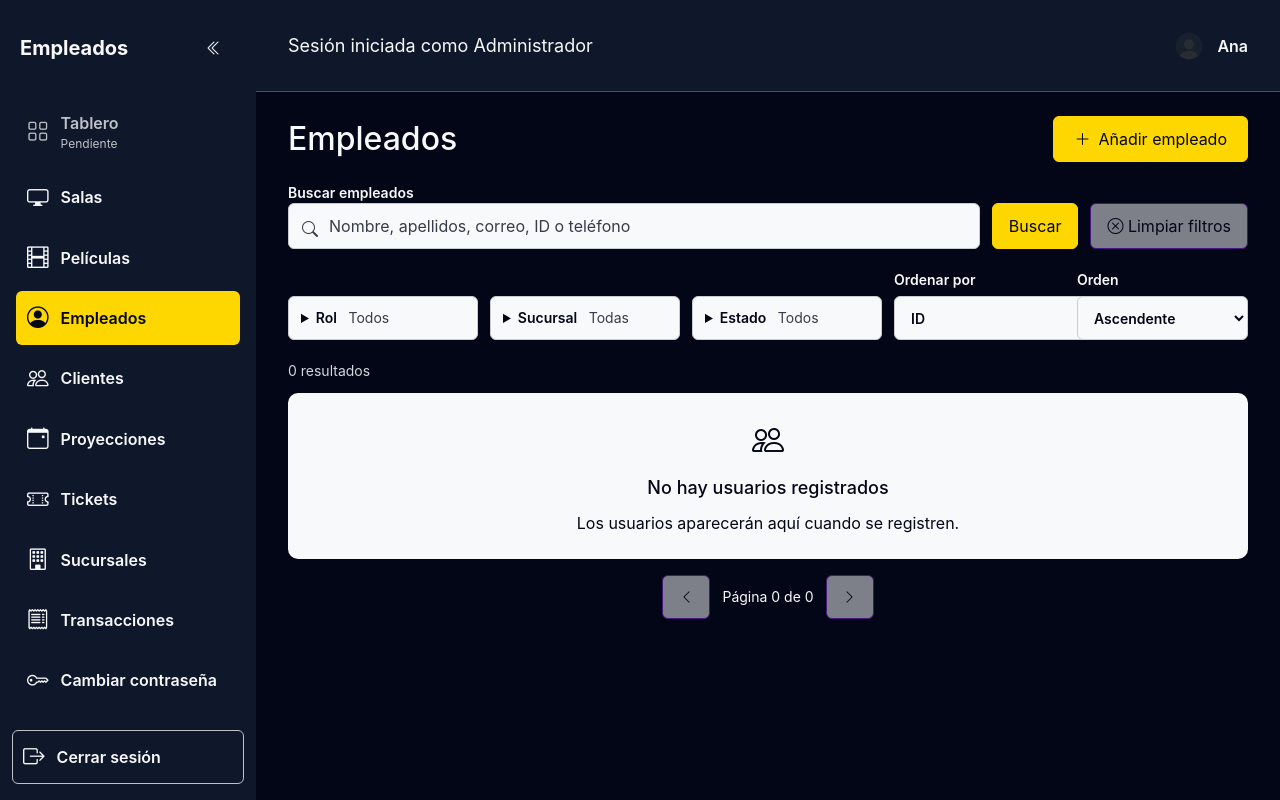
Test: DashboardView › creates a theater with the selected options
The width and height of the screenshot is (1280, 800).
Click the button with aria-label "Salas" at (128, 197), box [16,170,240,224]
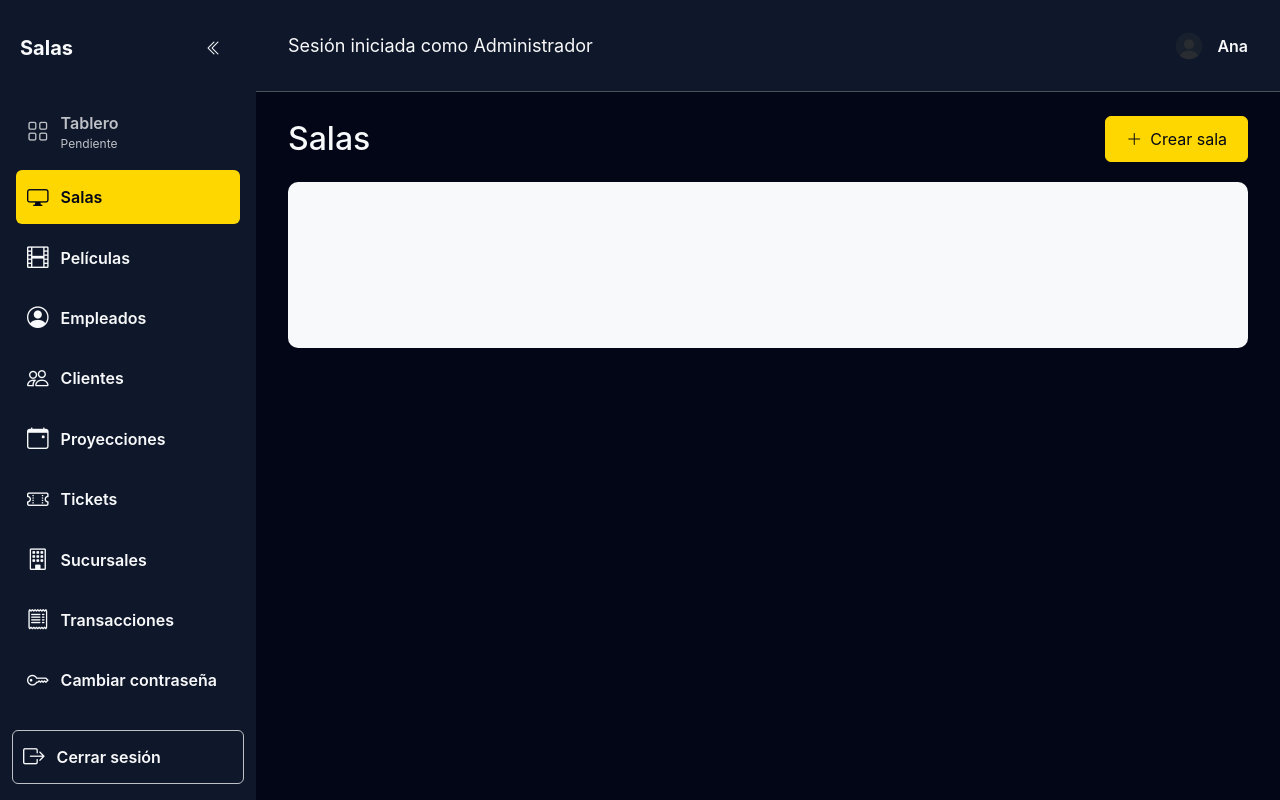
Click the button with class "add-user-button" at (1177, 139), box [1105,116,1248,162]
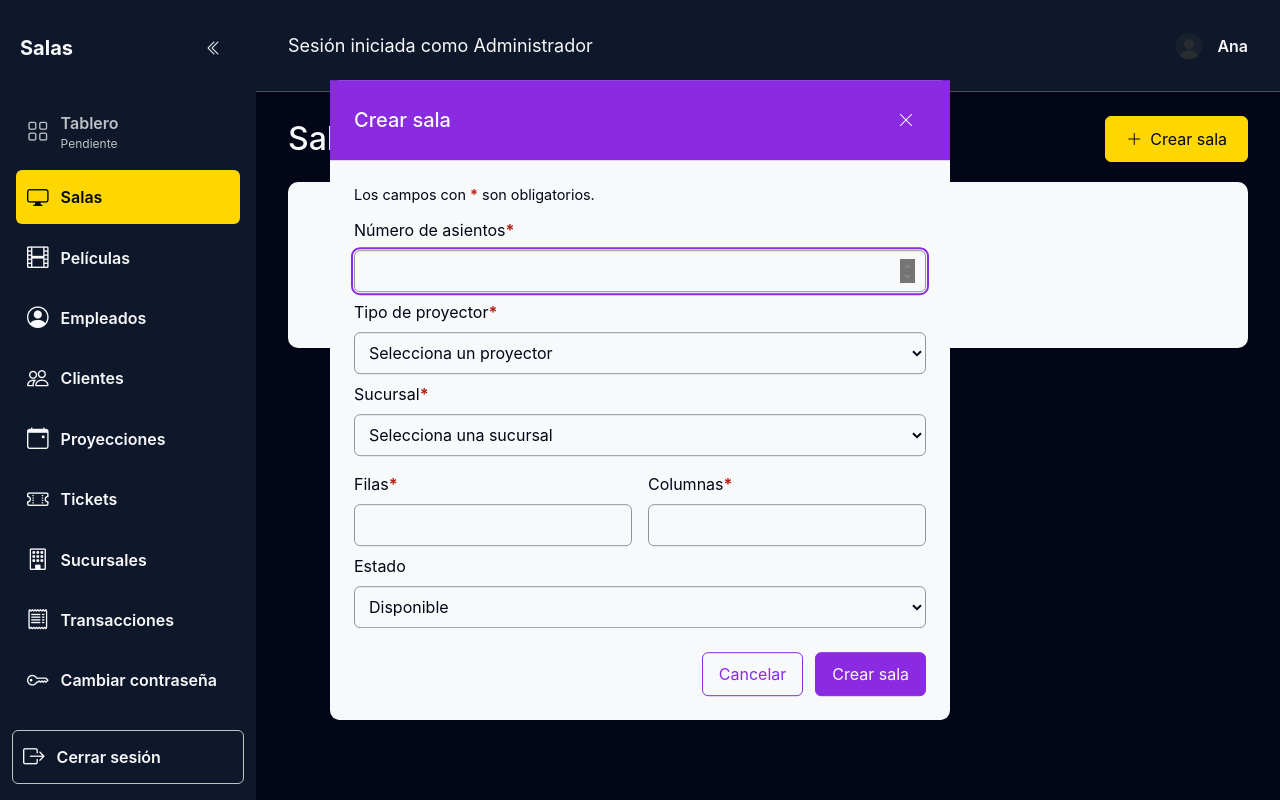
Now the heading "Crear sala" is shown, box [354,108,451,132]
Now the dropdown named "status" shows "Disponible", box [354,586,926,628]
Type "240" into the number field named "numberOfSeats" at (640, 271), box [354,250,926,292]
Select "IMAX" in the dropdown named "projectorName" at (640, 353), box [354,332,926,374]
Select "Cinetadel Central" in the dropdown named "cinema" at (640, 435), box [354,414,926,456]
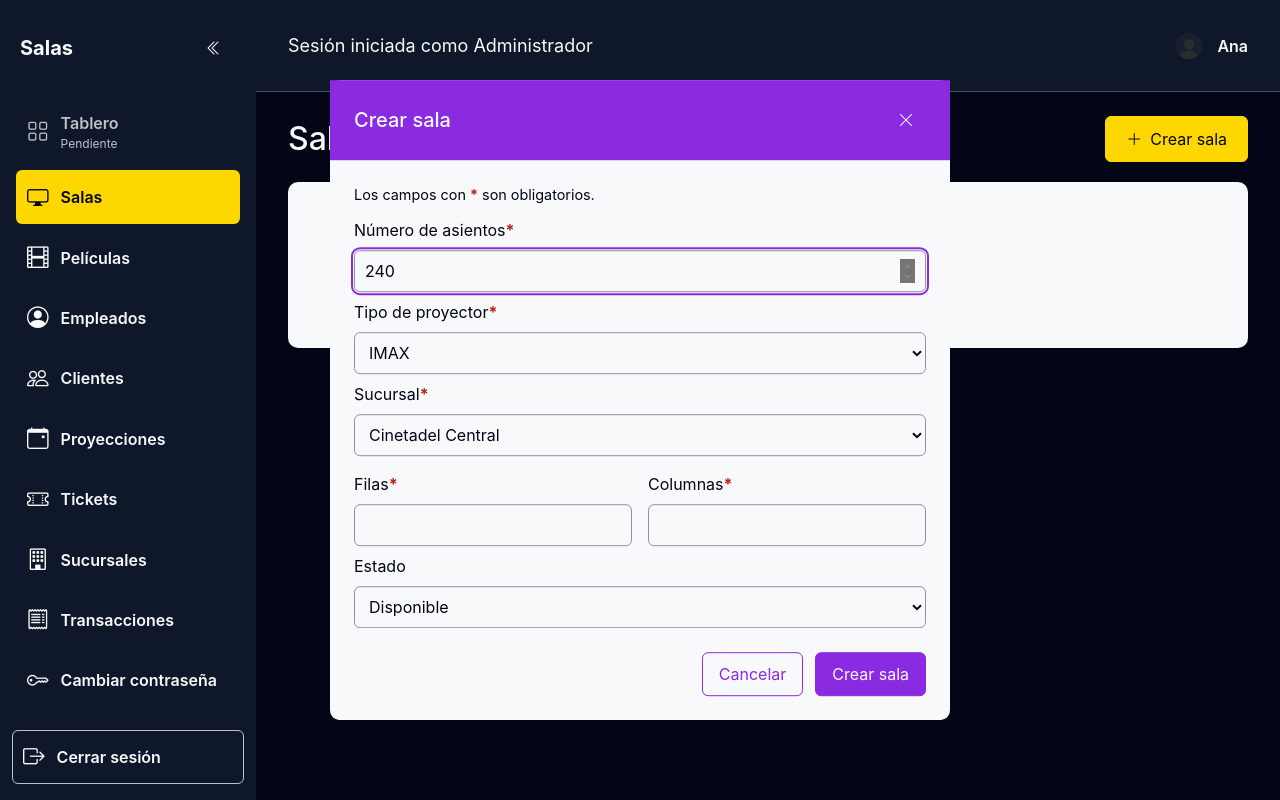
Type "20" into the number field named "dimensionX" at (493, 525), box [354,504,632,546]
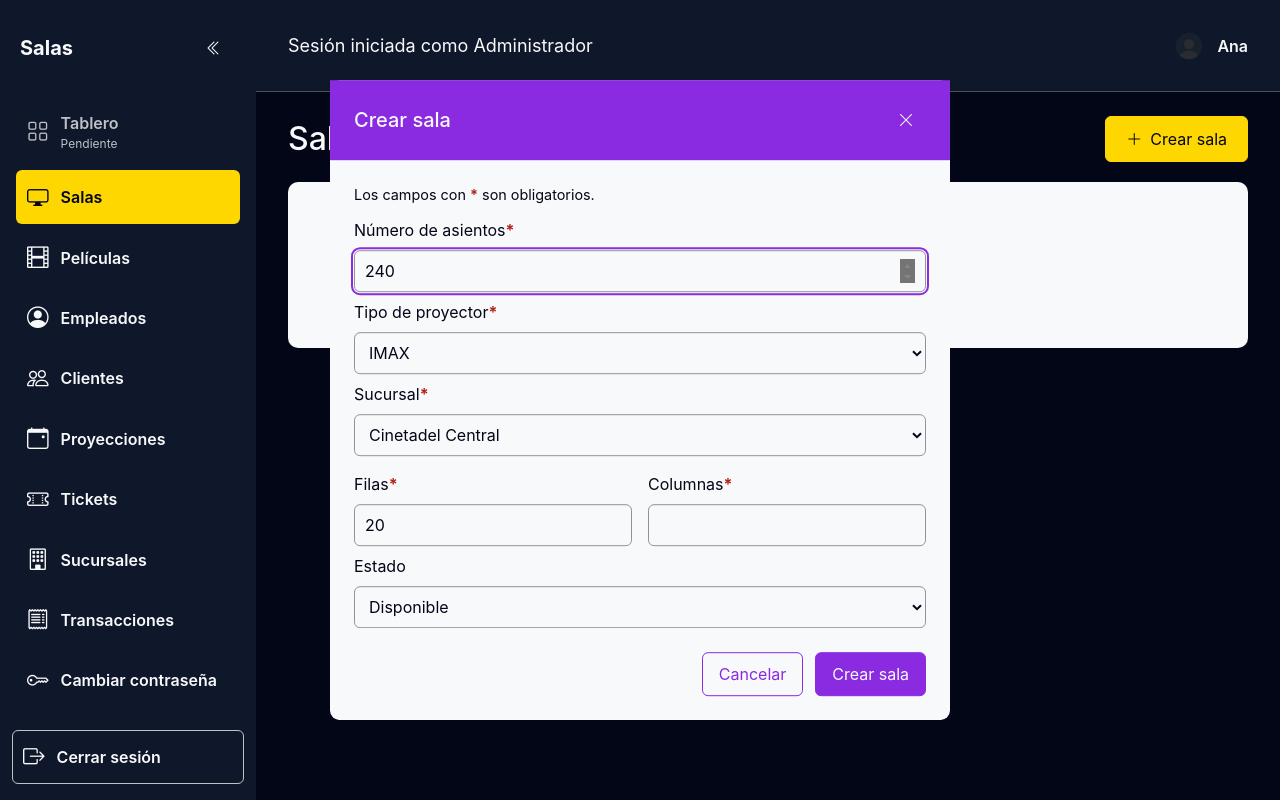
Type "12" into the number field named "dimensionY" at (787, 525), box [648,504,926,546]
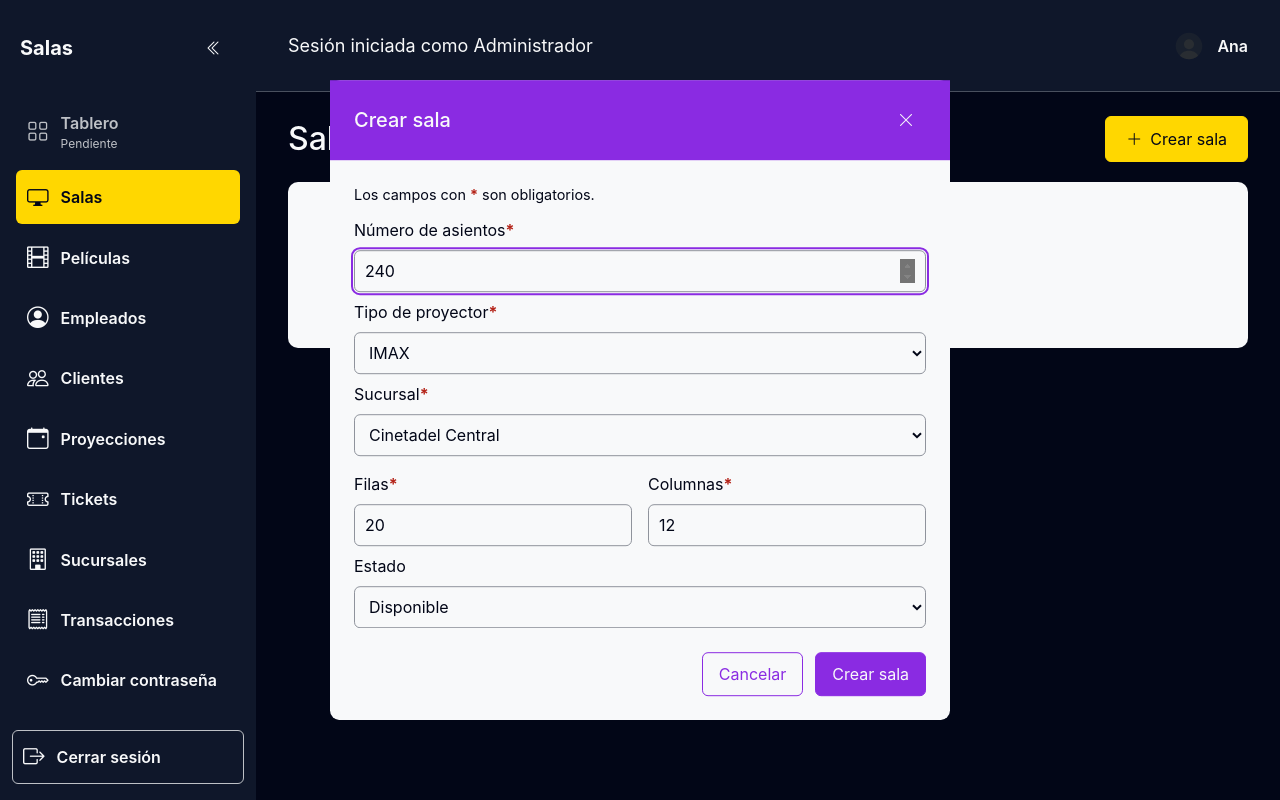
Submit the form, box [330,160,950,720]
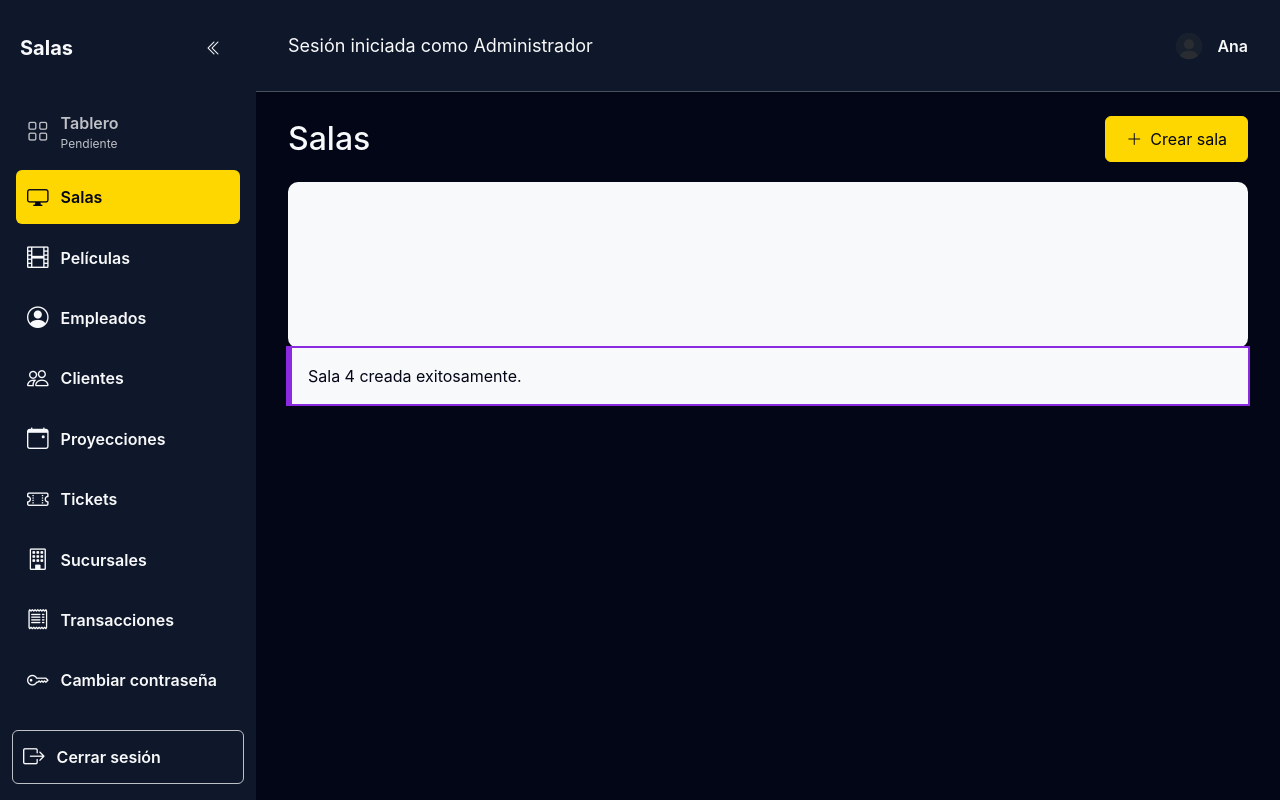
Now the message with class "creation-result" shows "Sala 4 creada exitosamente", box [308,366,522,386]
